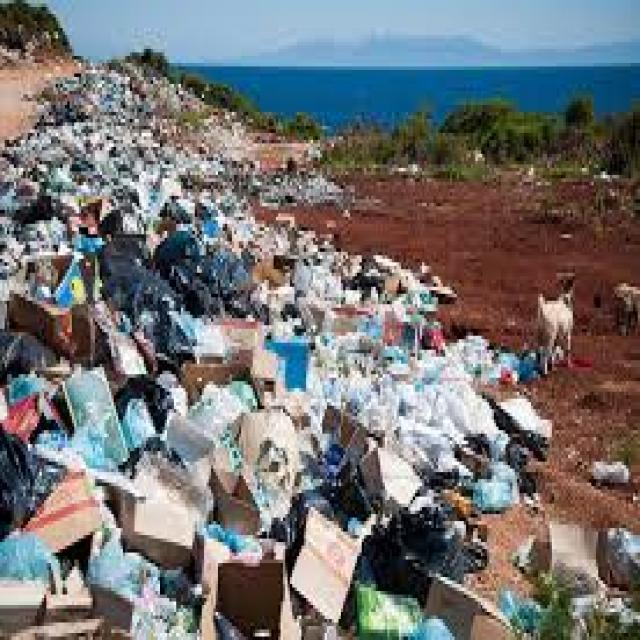heap: (15, 207, 520, 640)
